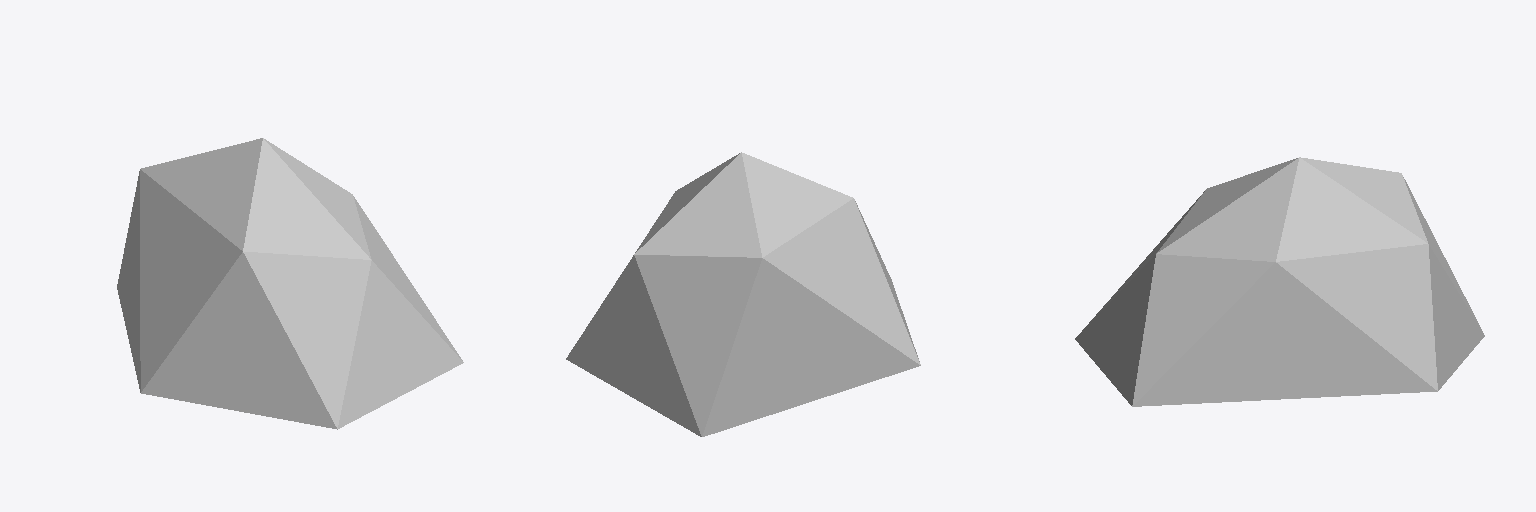
File: boulder1.obj
3 views of the same model, side by side, from view 1: azimuth 30°, elevation 25°; view 2: azimuth 150°, elevation 25°; view 3: azimuth 270°, elevation 25° (orthographic).
Visible parts, largest first — view 1: Icosphere; view 2: Icosphere; view 3: Icosphere.
Part boxes in pixels (x1,y1,x2,y2): Icosphere: (117,138,463,429); Icosphere: (566,152,920,436); Icosphere: (1075,157,1484,406).
Bounding box in the file's own units: 1.12 × 0.8556 × 1.49.